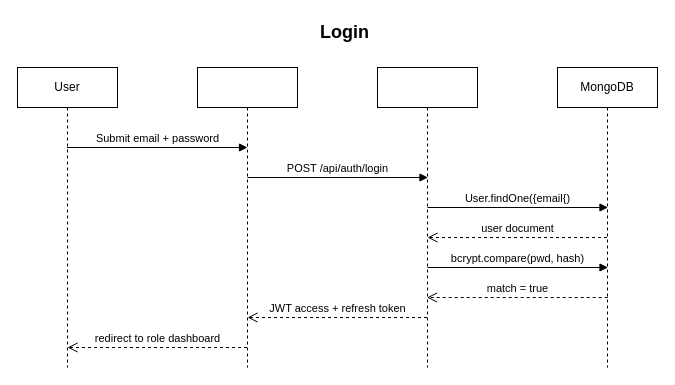
The diagram is 675 pixels wide and 385 high, and some of its shapes have lost their labels. Each missing label, with the box of its shape:
AuthService: (376, 66, 478, 368)
React UI: (196, 66, 298, 368)
